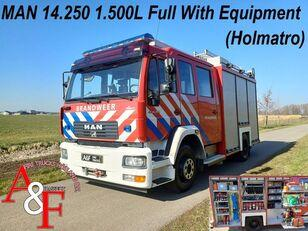Fire-engine: (62, 44, 281, 194)
